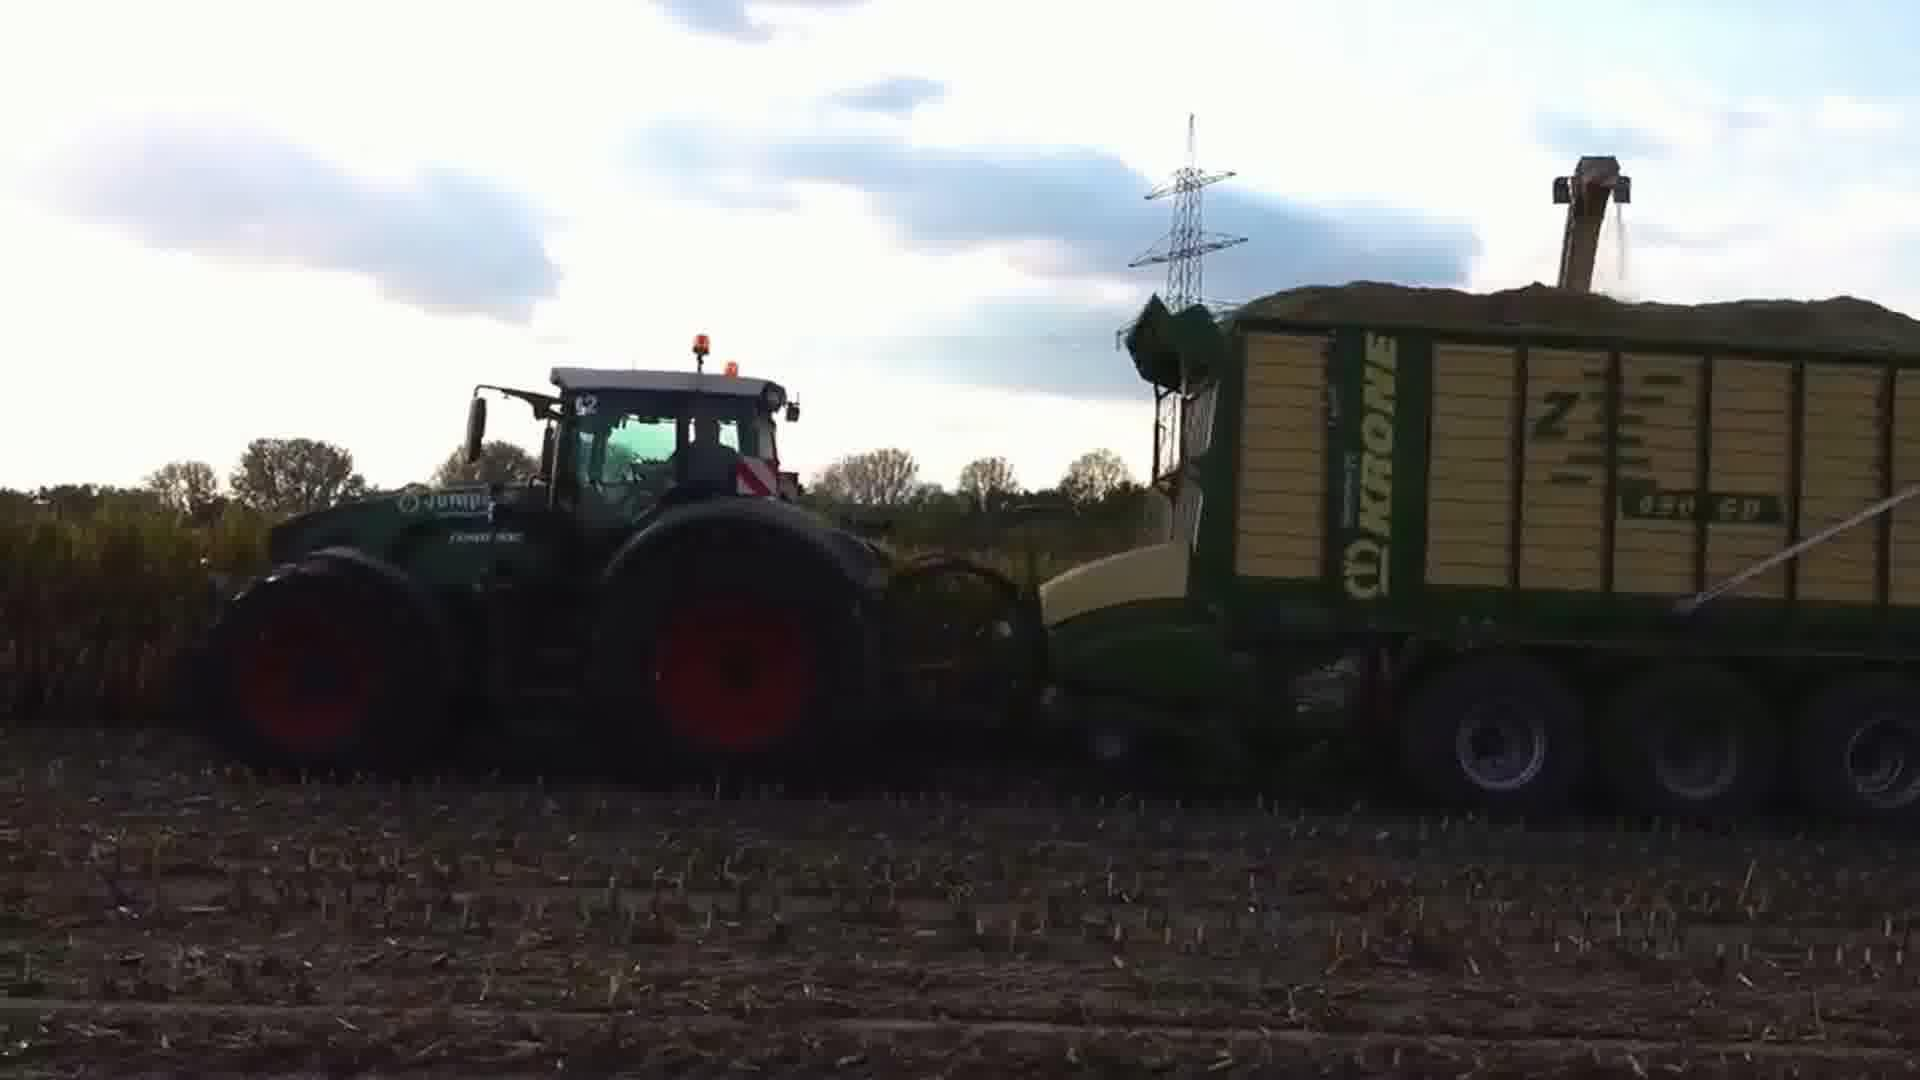tractor: (161, 326, 926, 803)
trailer: (975, 253, 1920, 840)
